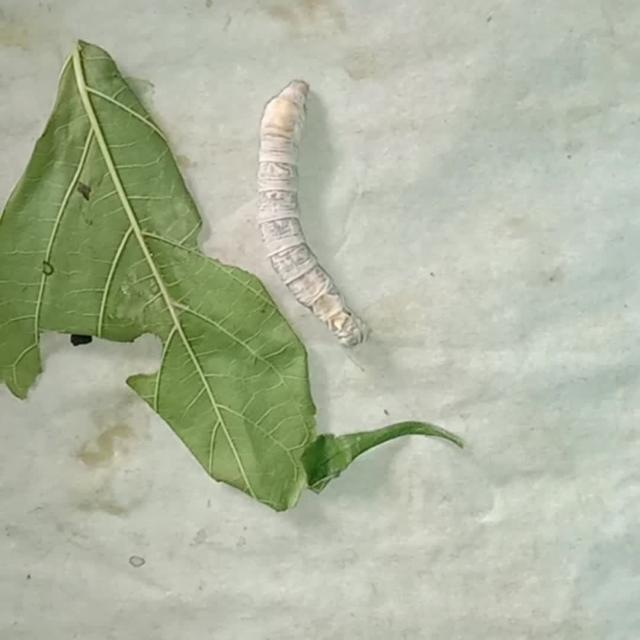Grasserie: (238, 74, 372, 348)
